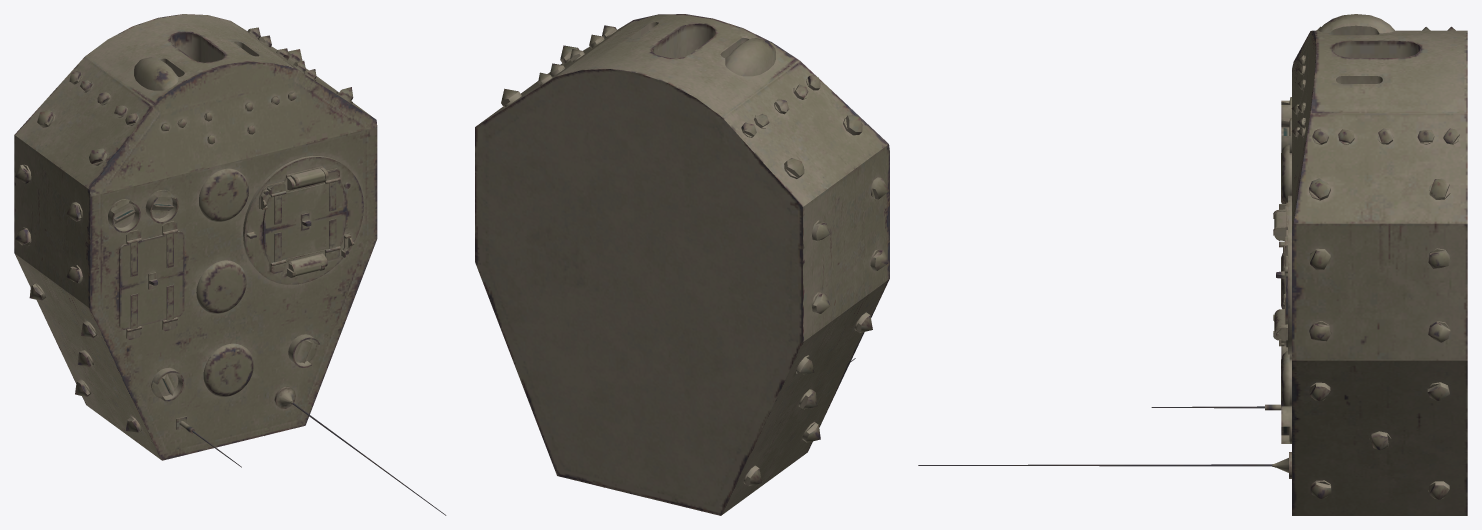
File: Turret_01.glb
The picture shows the model from 3 angles, left to right: view 1: azimuth 30°, elevation 25°; view 2: azimuth 150°, elevation 25°; view 3: azimuth 270°, elevation 25°; orthographic projection. The views are drawn at different scales.
Parts seen in each view (by area): view 1: set_0_group_0; view 2: set_0_group_0; view 3: set_0_group_0.
Part boxes in pixels (x1,y1,x2,y2): set_0_group_0: (14,14,446,515); set_0_group_0: (475,14,889,515); set_0_group_0: (918,14,1467,515).
Size of the model in its own units: 2.22 by 2.63 by 2.94.
1 material, 1 textured.
